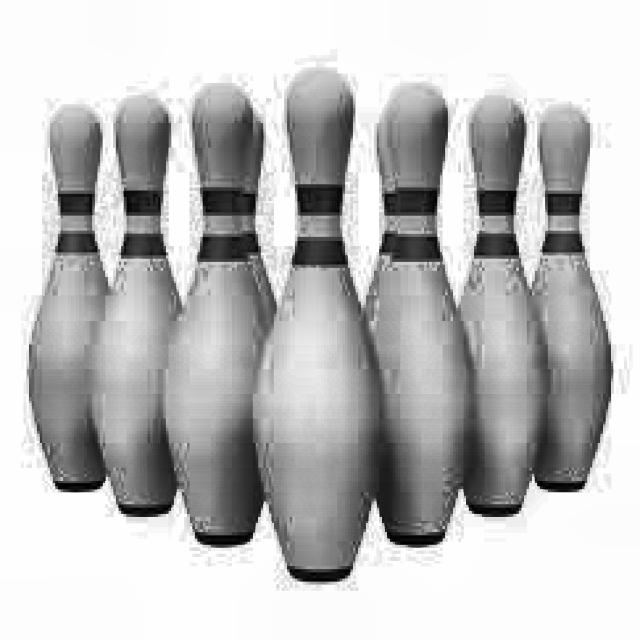bowling-pins: (255, 71, 381, 583), (369, 86, 469, 546), (169, 86, 266, 547), (92, 98, 179, 515), (461, 95, 545, 517), (531, 108, 616, 492), (29, 108, 108, 491), (366, 105, 398, 328), (245, 117, 277, 337)
